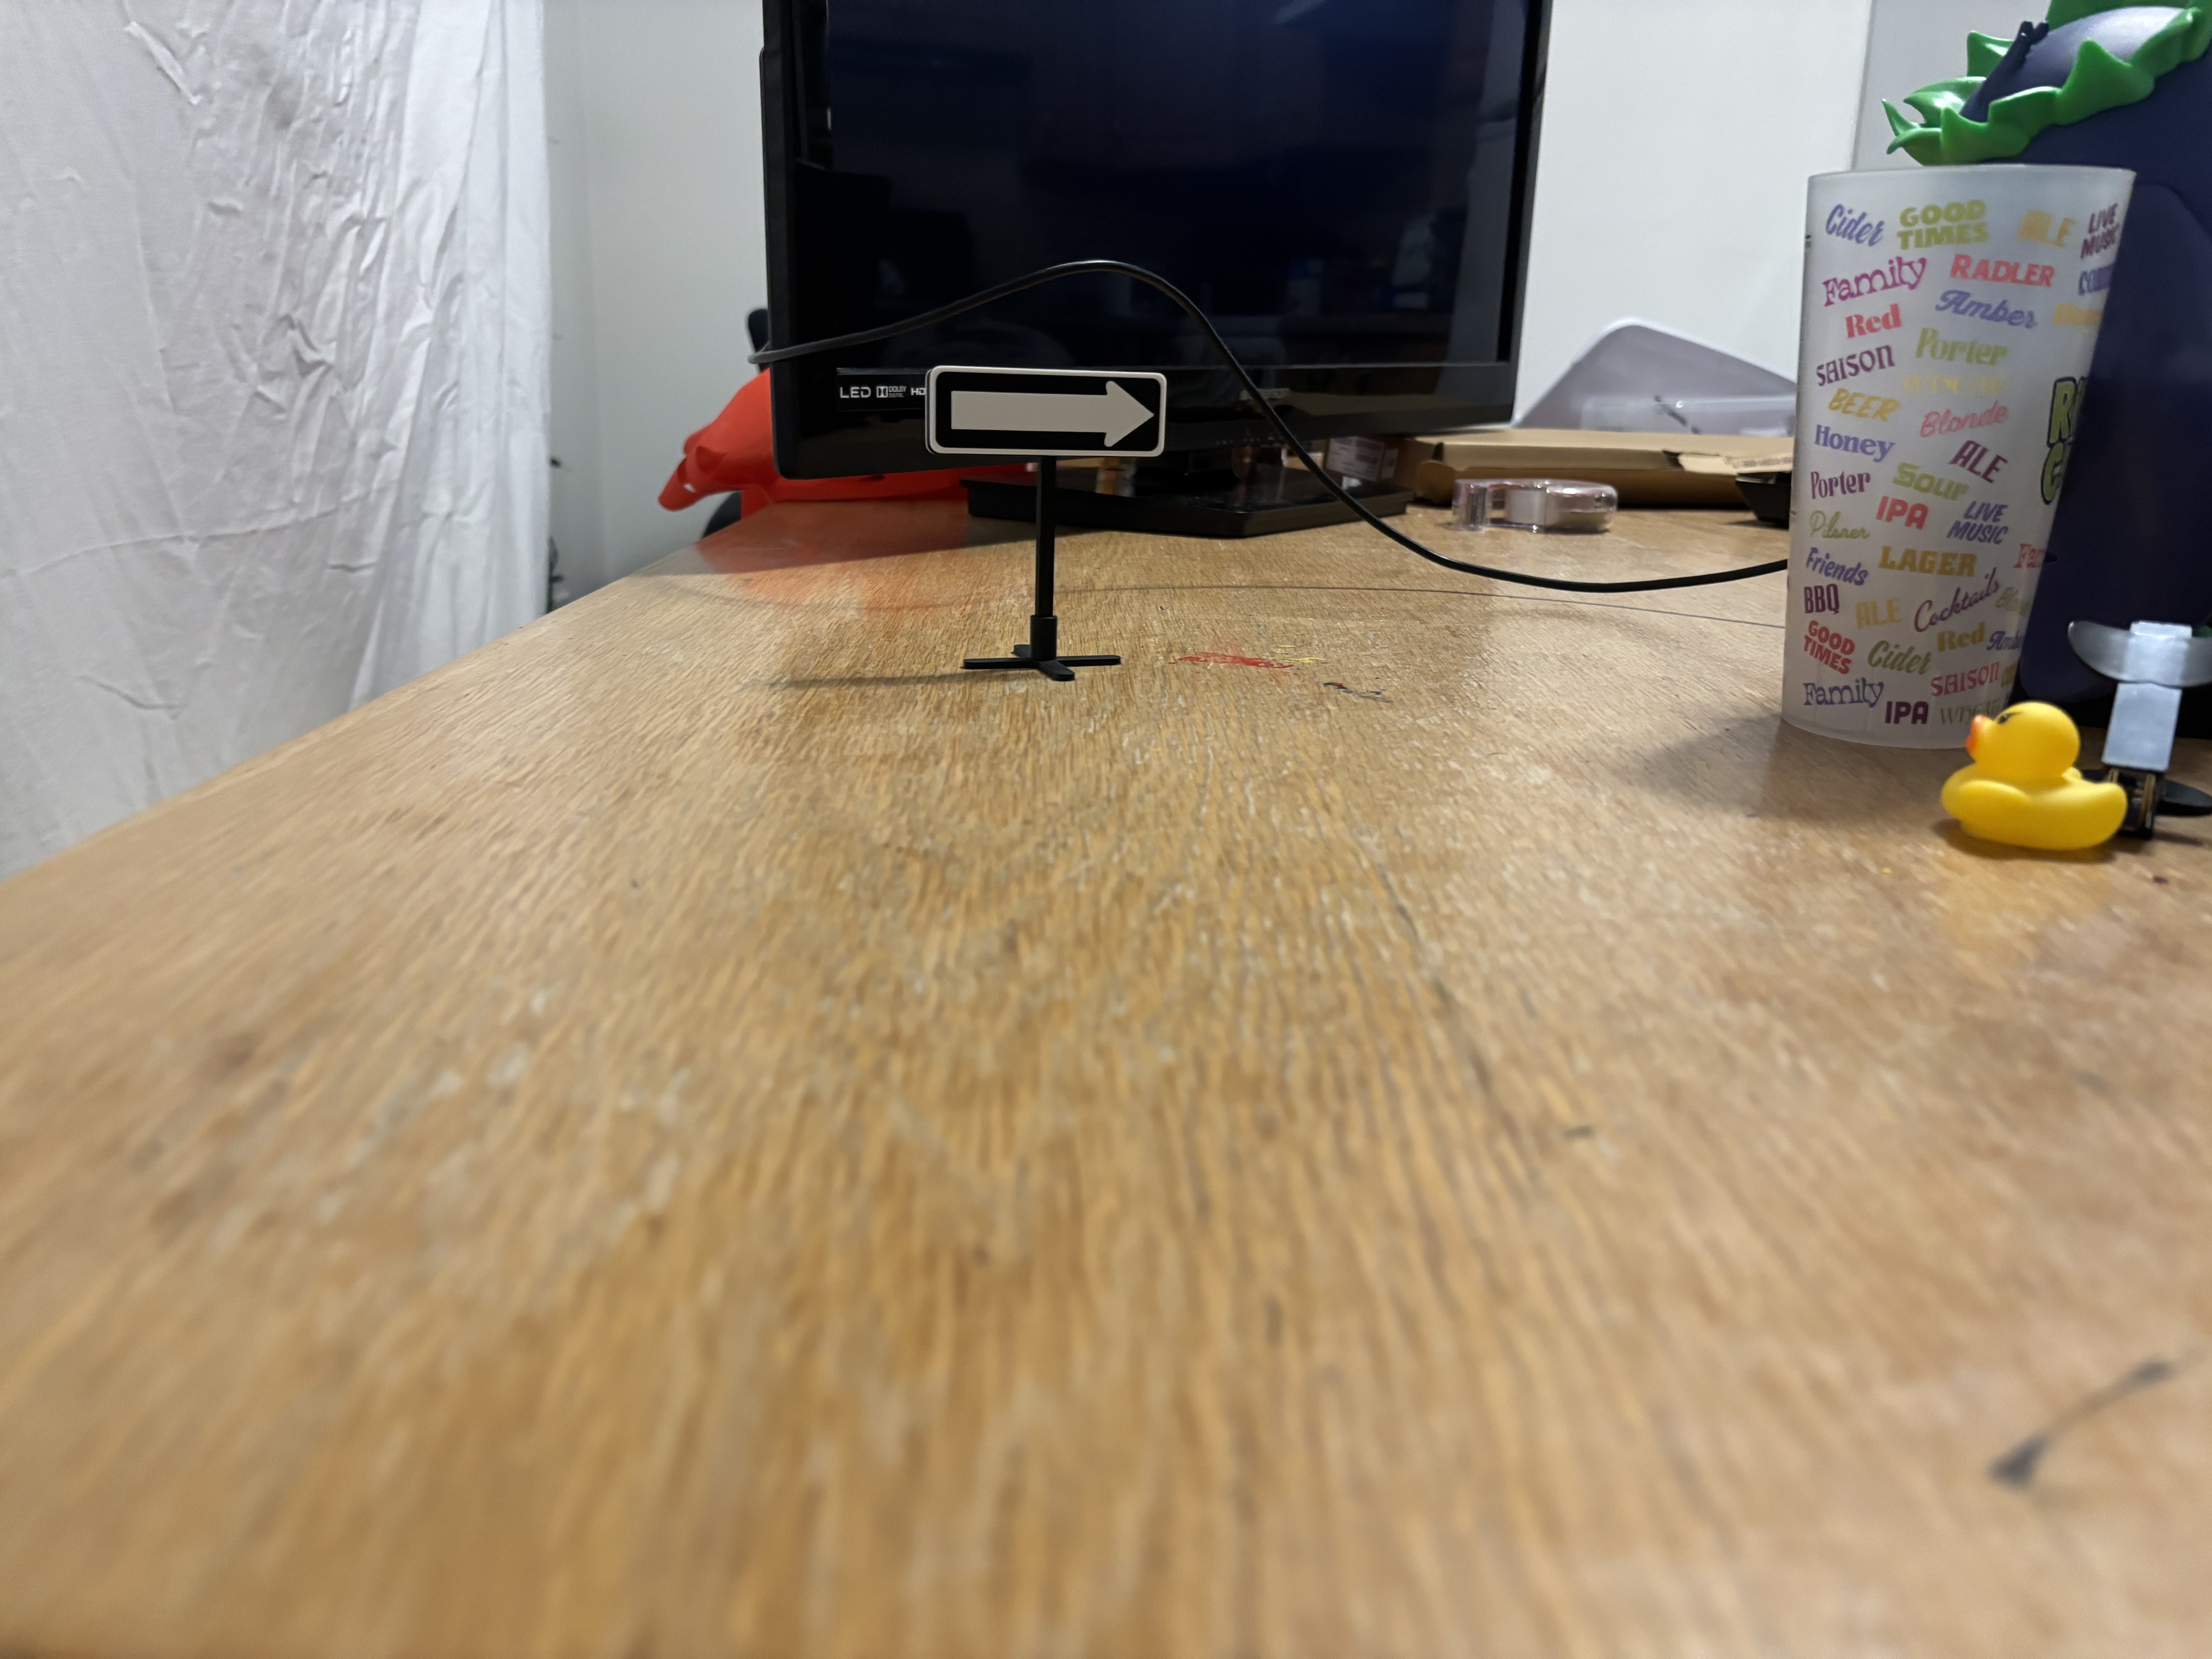sign_oneway_right: (925, 364, 1179, 460)
